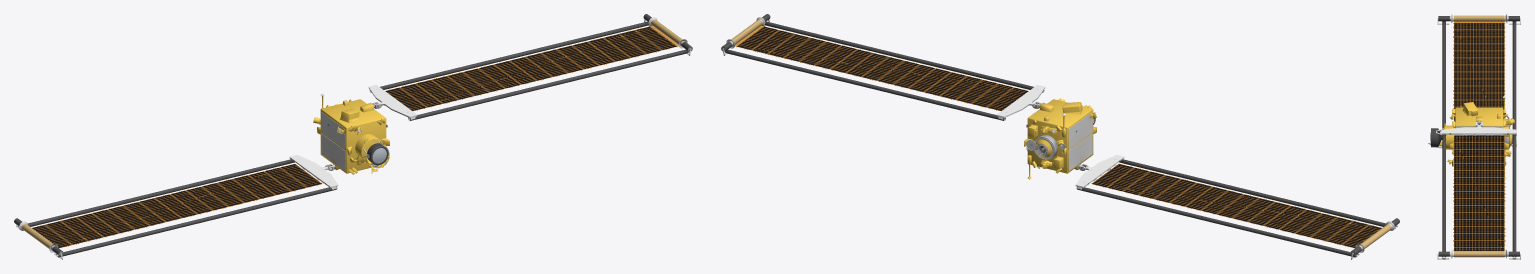
File: dart.gltf
The picture shows the model from 3 angles, left to right: view 1: azimuth 30°, elevation 25°; view 2: azimuth 150°, elevation 25°; view 3: azimuth 270°, elevation 25°; orthographic projection. The views are drawn at different scales.
Visible parts, largest first — view 1: array.001, array, arrayright, arrayleft, bus, dart_bakes; view 2: array.001, array, arrayright, arrayleft, bus, dart_bakes; view 3: array.001, array, arrayright, bus, arrayleft, dart_bakes, arrayTag.001, Cube.004, arrayTag.
Boxes of the visible parts, box(x1,y1,x2,y2) form: array.001: box(385, 25, 678, 110); array: box(32, 164, 322, 248); arrayright: box(368, 14, 692, 120); arrayleft: box(14, 155, 338, 259); bus: box(313, 95, 389, 174); dart_bakes: box(320, 93, 389, 171); array.001: box(735, 25, 1028, 110); array: box(1091, 164, 1381, 248); arrayright: box(721, 14, 1045, 120); arrayleft: box(1075, 155, 1399, 259); bus: box(1024, 98, 1096, 178); dart_bakes: box(1025, 113, 1095, 179); array.001: box(1454, 135, 1504, 250); array: box(1454, 21, 1504, 121); arrayright: box(1437, 120, 1520, 259); bus: box(1439, 97, 1514, 178); arrayleft: box(1437, 14, 1520, 146); dart_bakes: box(1430, 95, 1509, 162); arrayTag.001: box(1453, 137, 1505, 250); Cube.004: box(1461, 134, 1501, 135); arrayTag: box(1453, 23, 1505, 119).
Size of the model in its own units: 17.52 by 1.95 by 2.4.
Materials: 16 (8 with a texture image).
